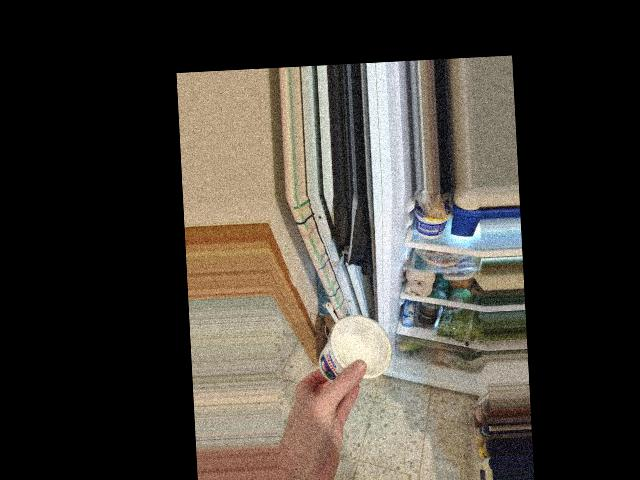cotage: (311, 306, 394, 390)
